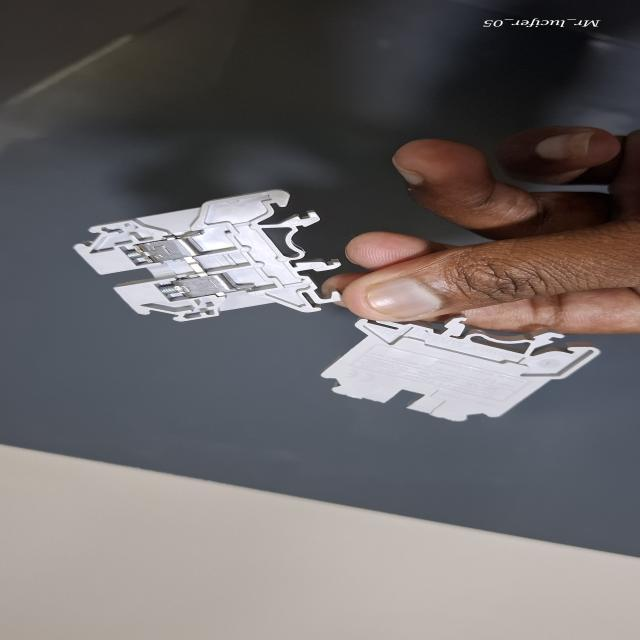Inverted: (322, 316, 604, 422)
Pass: (71, 192, 342, 322)
